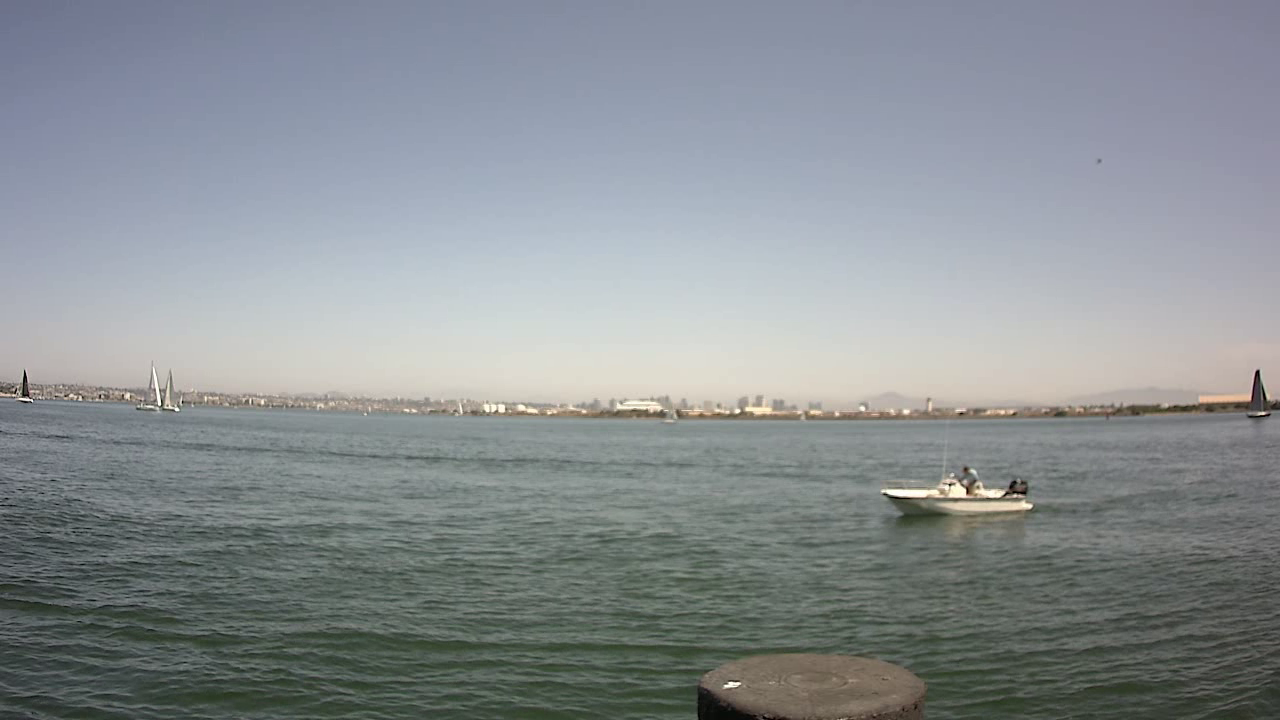target: (877, 458, 1039, 521)
